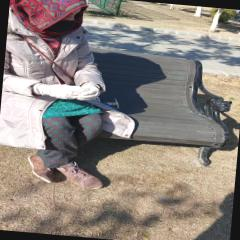gloved: (36, 83, 88, 102), (78, 82, 100, 102)
